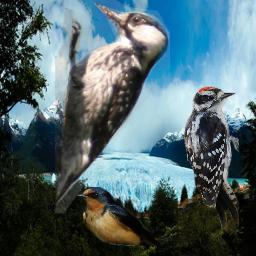Swallow: (76, 187, 195, 246)
Woodpecker: (55, 0, 170, 214), (182, 86, 239, 229)
